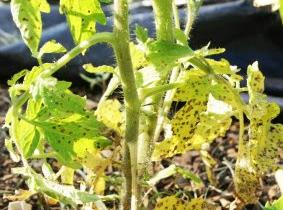Tomato Septoria leaf spot: (7, 80, 115, 169), (227, 70, 283, 210), (151, 79, 235, 168), (0, 0, 48, 54), (48, 0, 110, 39)
